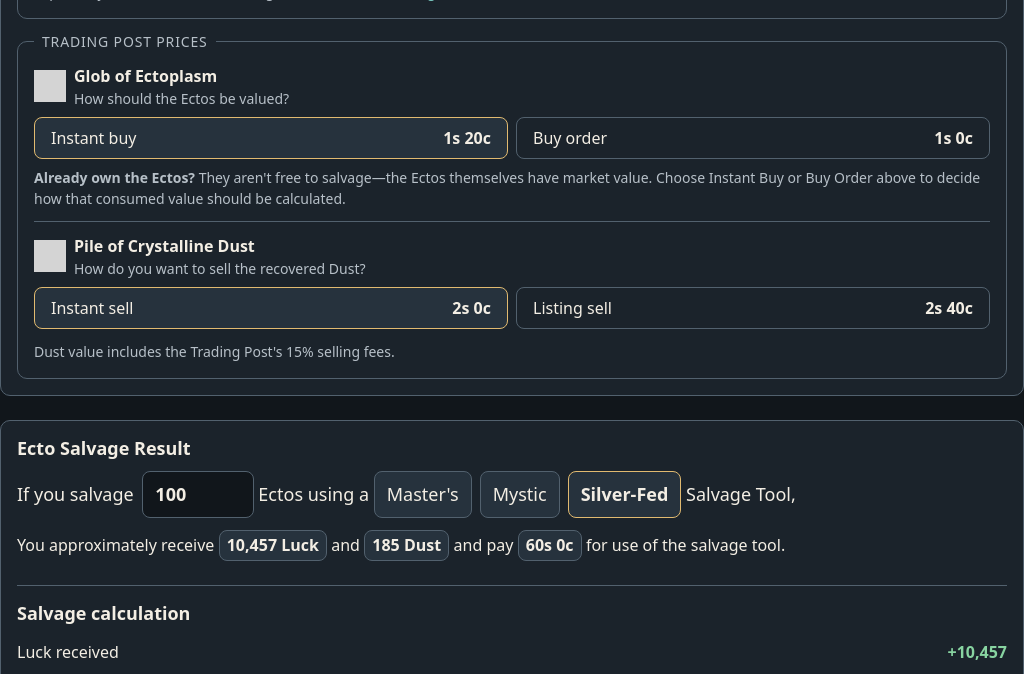
Test: EctoSalvageScreen › applies the 15% Dust sale fee and recalculates both TP modes locally
The image size is (1024, 674).
(page scrolled)
What coordinates should you click on to do the following:
click the button with class "tp-option" showing "Listing sell 2s 40c"
I would click on:
 (572, 308)
Its box is [516,287,990,329].
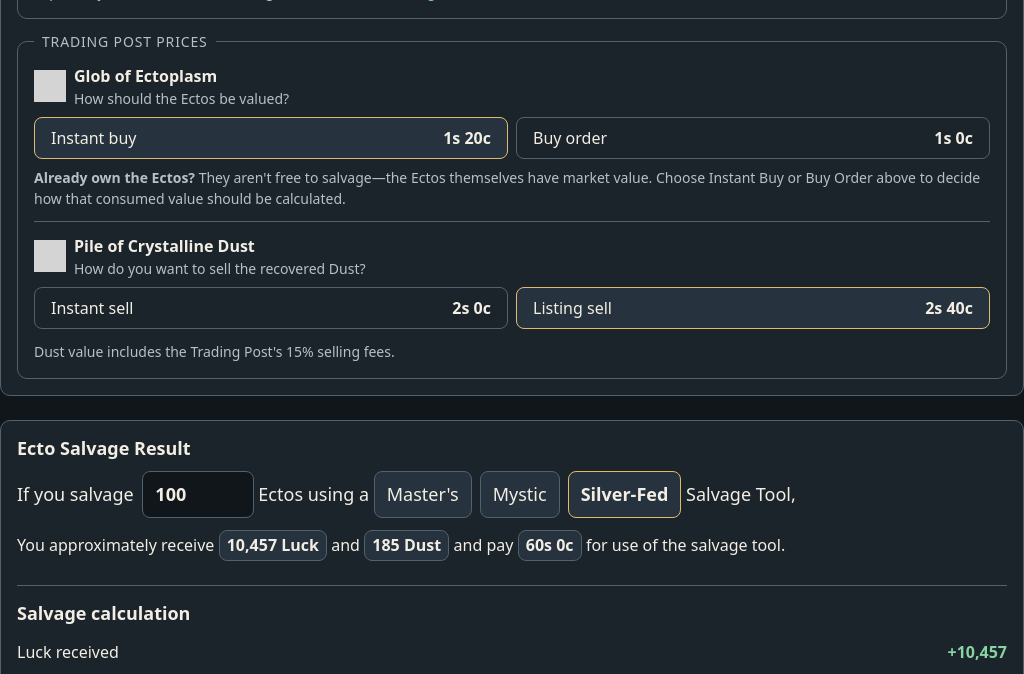
What coordinates should you click on to do the following:
click the button with class "tp-option" showing "Buy order 1s 0c"
I would click on:
 (570, 138)
Its box is [516,117,990,159].
(page scrolled)
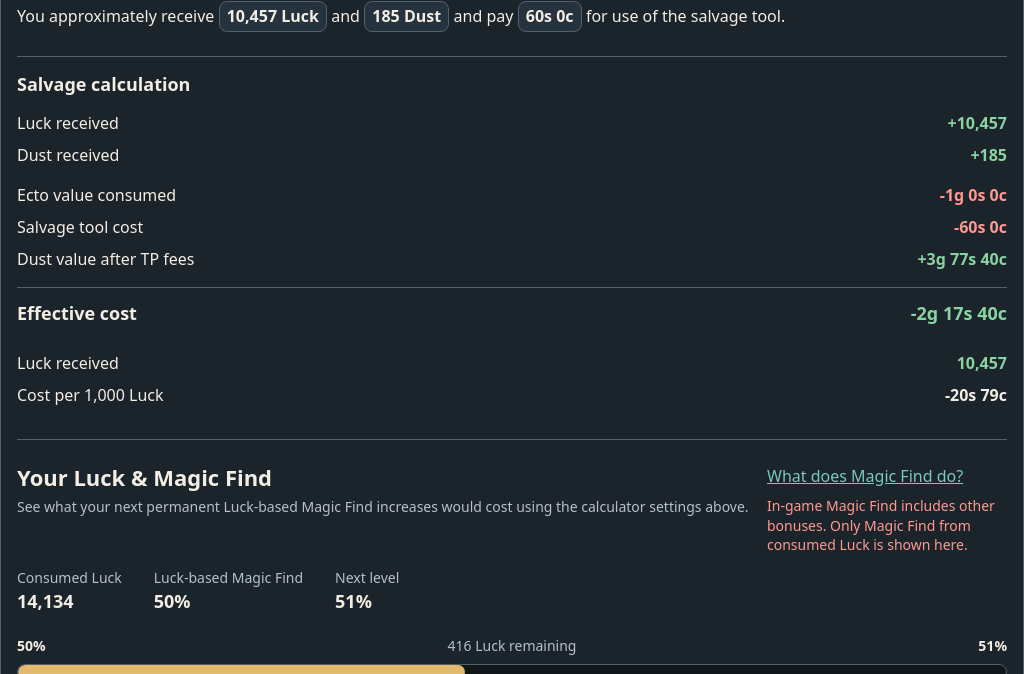
Result: the element showing "Ecto value consumed -1g 0s 0c" is shown at [17,183,1007,207]
Result: the element showing "Effective cost -2g 17s 40c" is shown at [17,287,1007,327]
